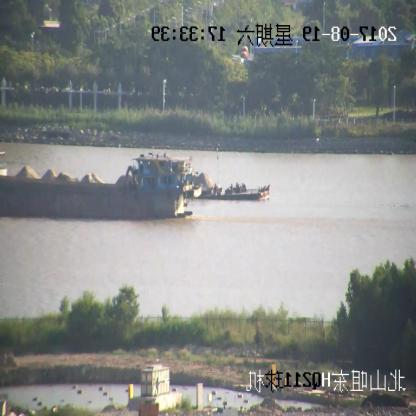Bulk Carrier: (1, 157, 197, 220)
